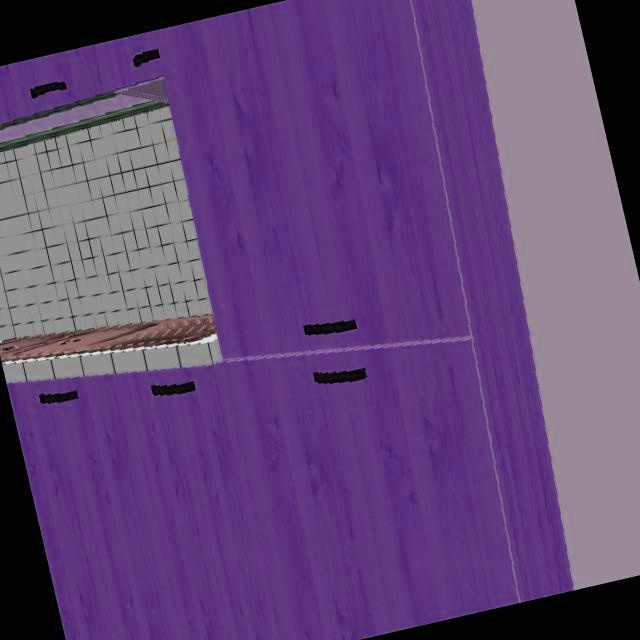countertop: (2, 320, 218, 384)
sink: (0, 311, 215, 367)
